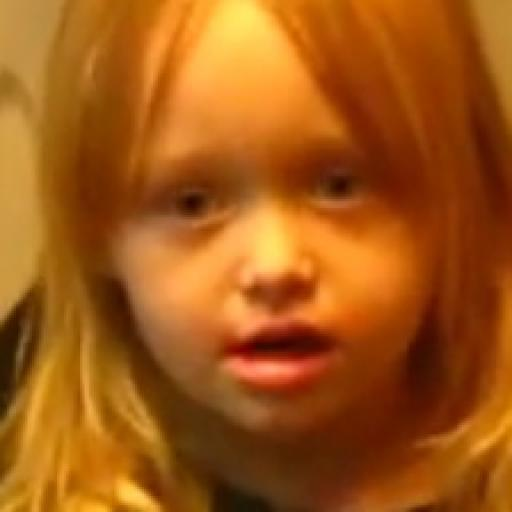Autism: (76, 0, 508, 478)
